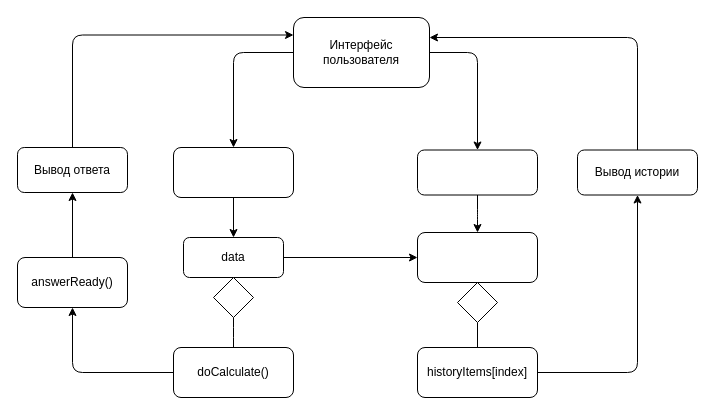
Some shapes in this 715 by 415 pixel diagram are drawn without their labels. Here are the shapes that lost their labels. From the top down, the centre of each, then its label:
At (233,172): "Ввод коэффициентов".
At (477,172): "Запрос истории [index]".
At (477,257): "historyItems".
